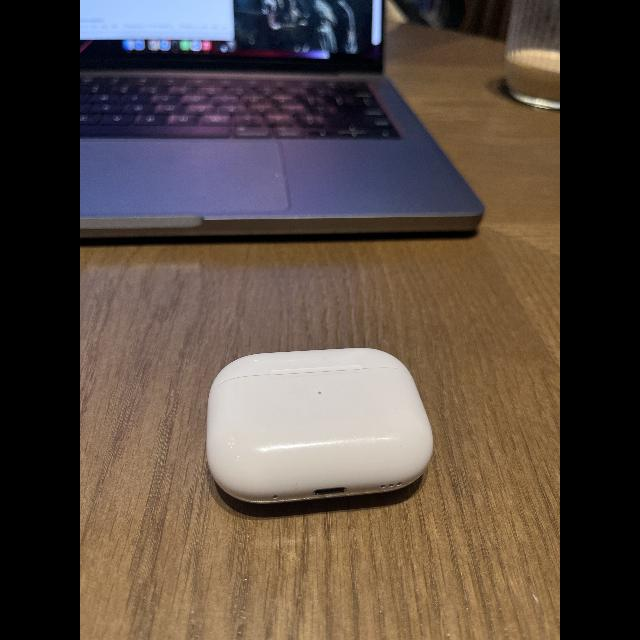AirPods Pro: (194, 340, 446, 520)
